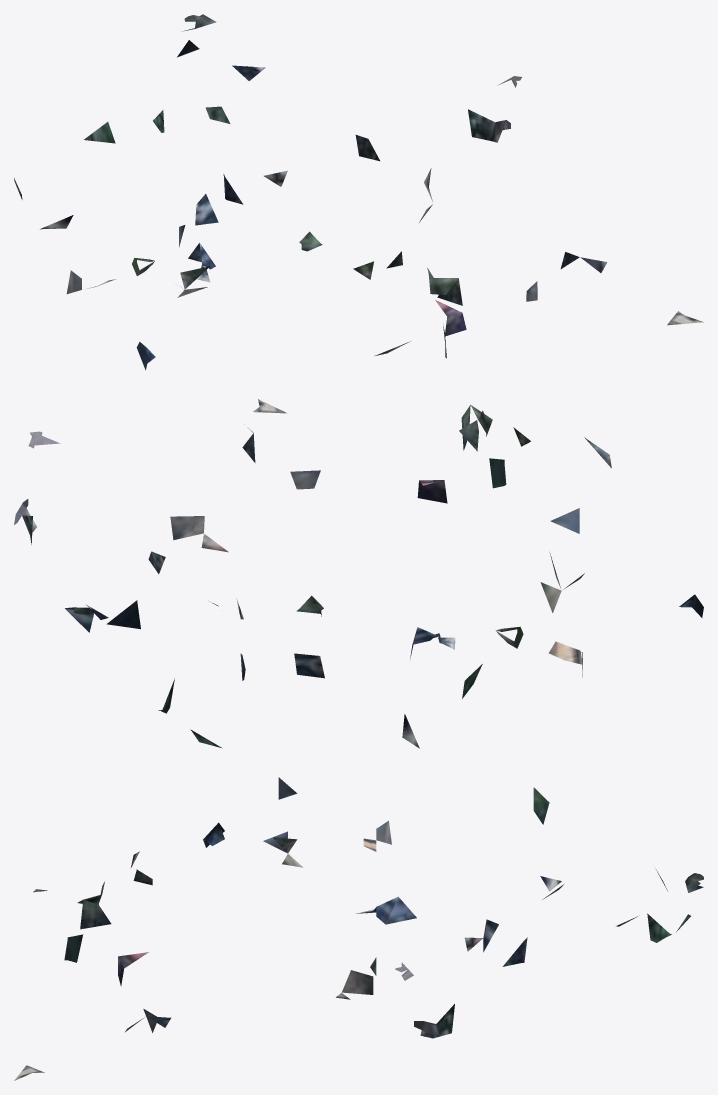
The picture shows the model from 3 angles, top to bottom: view 1: azimuth 30°, elevation 25°; view 2: azimuth 150°, elevation 25°; view 3: azimuth 270°, elevation 25°; orthographic projection. The views are drawn at different scales.
Parts seen in each view (by area): view 1: 30436272704361705412_1; view 2: 30436272704361705412_1; view 3: 30436272704361705412_1.
Boxes of the visible parts, left/top/right/bottom form: 30436272704361705412_1: left=14, top=14, right=703, bottom=370; 30436272704361705412_1: left=14, top=399, right=703, bottom=748; 30436272704361705412_1: left=14, top=777, right=703, bottom=1080.
Bounding box in the file's own units: 27.61 × 6.17 × 33.78.
Materials: 1 (1 with a texture image).
